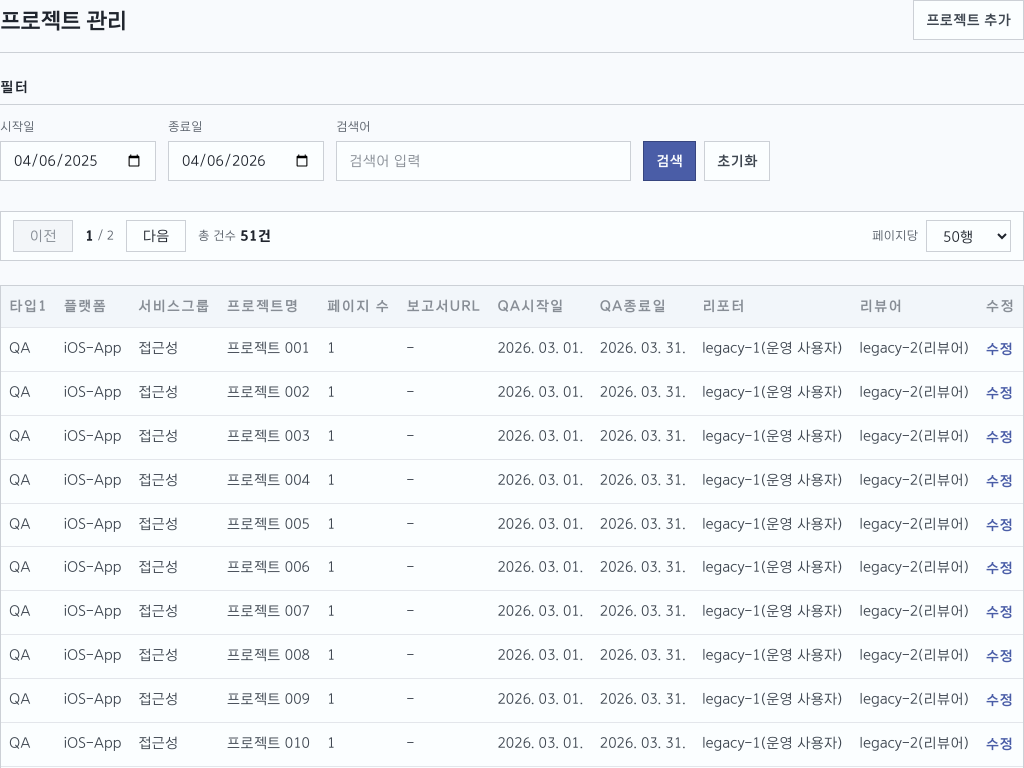
Test: Projects routes › paginates projects in 50-row chunks
This screenshot has width=1024, height=768.
Check: the text "51건" is shown, box [240, 229, 271, 243]
Check: the text "프로젝트 001" is shown, box [219, 328, 319, 371]
Click the button with aria-label "다음 페이지".
click(156, 236)  # box [126, 220, 186, 252]
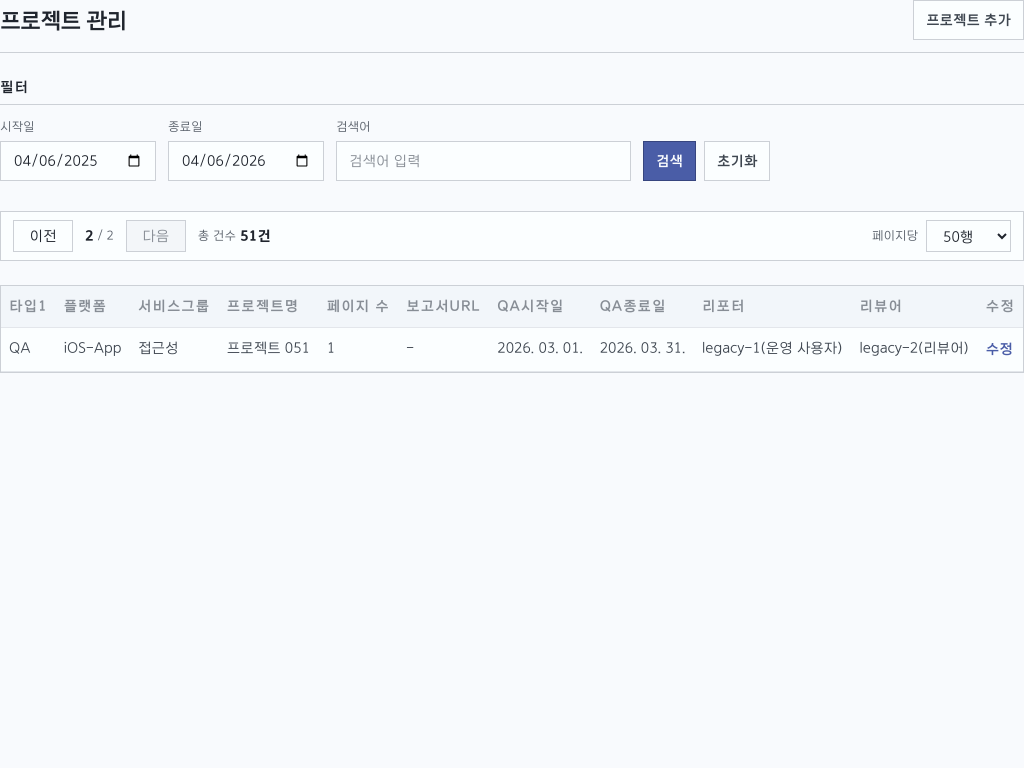
Check: the text "프로젝트 051" is shown, box [219, 328, 319, 371]
